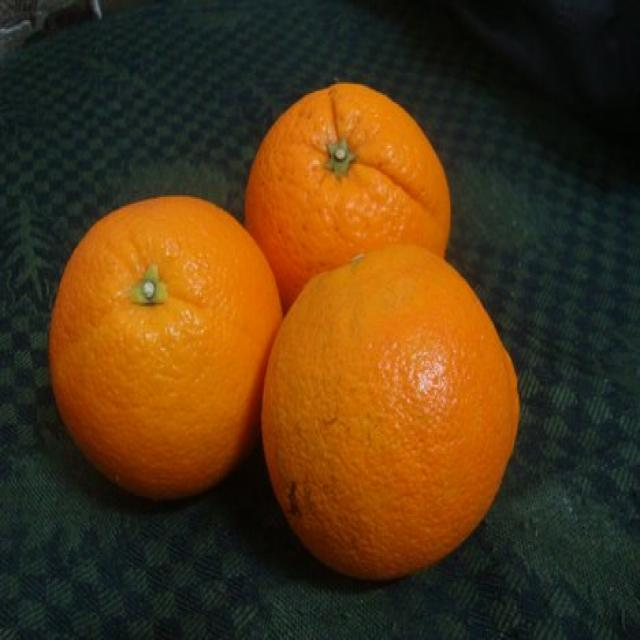Orange: (263, 245, 517, 581), (52, 197, 284, 501), (245, 83, 456, 314)
